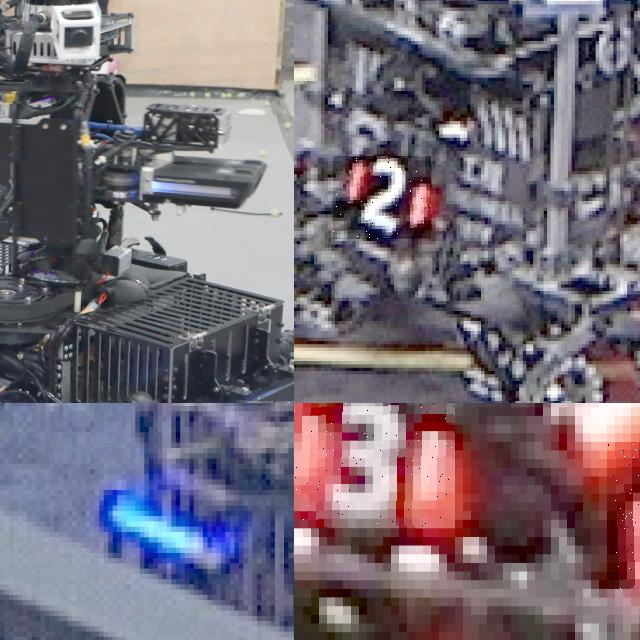R2: (333, 156, 431, 239)
R3: (294, 403, 455, 528), (607, 442, 640, 589)
